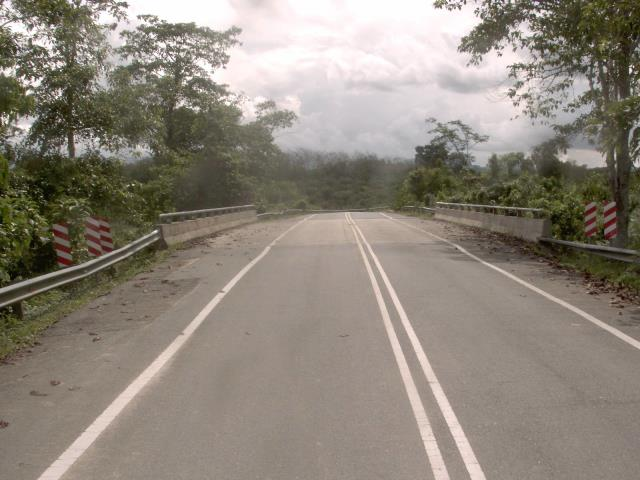traffic_sign: (47, 217, 75, 274), (81, 210, 106, 261)
